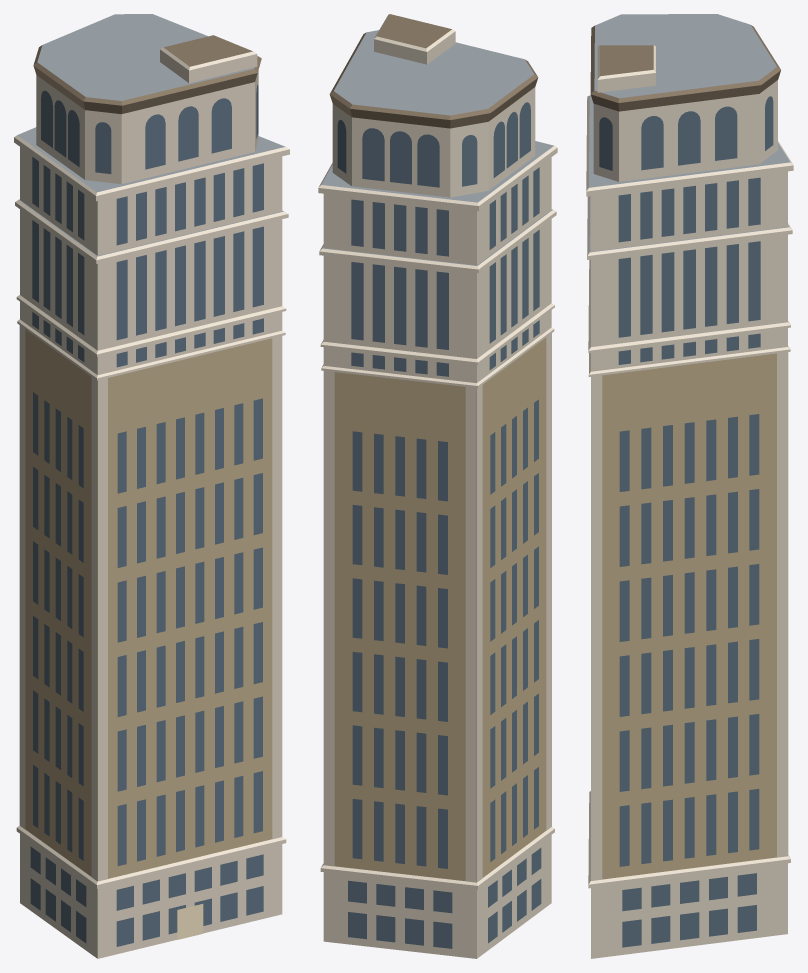
Rendered from det-broderick-tower.glb.
3 views of the same model, side by side, from view 1: azimuth 30°, elevation 25°; view 2: azimuth 150°, elevation 25°; view 3: azimuth 270°, elevation 25° (orthographic).
Visible parts, largest first — view 1: David Broderick Tower; view 2: David Broderick Tower; view 3: David Broderick Tower.
Boxes of the visible parts, x1,y1,x2,y2 form: David Broderick Tower: [14, 14, 289, 958]; David Broderick Tower: [318, 14, 557, 958]; David Broderick Tower: [586, 14, 793, 958].
Size of the model in its own units: 27.04 by 115 by 24.82.
